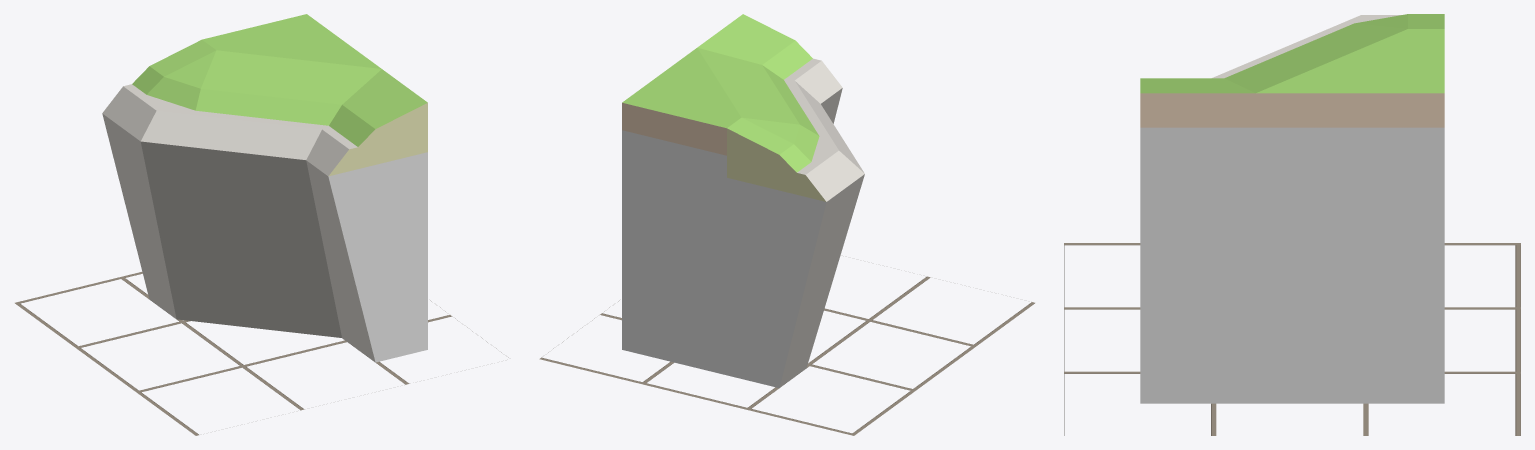
The model's file is Basic_Esse_Top_2x2.glb.
3 renders of one model, left to right at view 1: azimuth 30°, elevation 25°; view 2: azimuth 150°, elevation 25°; view 3: azimuth 270°, elevation 25°, orthographic. The views are drawn at different scales.
Visible parts, largest first — view 1: Basic_Esse_Top_2x2, Floor; view 2: Basic_Esse_Top_2x2, Floor; view 3: Basic_Esse_Top_2x2, Floor.
Part boxes in pixels (x1,y1,x2,y2): Basic_Esse_Top_2x2: (102, 14, 427, 362); Floor: (15, 272, 508, 435); Basic_Esse_Top_2x2: (622, 14, 864, 387); Floor: (539, 276, 1034, 435); Basic_Esse_Top_2x2: (1140, 14, 1444, 403); Floor: (1064, 243, 1520, 435).
Size of the model in its own units: 300 by 225 by 300.
6 materials, 1 textured.
